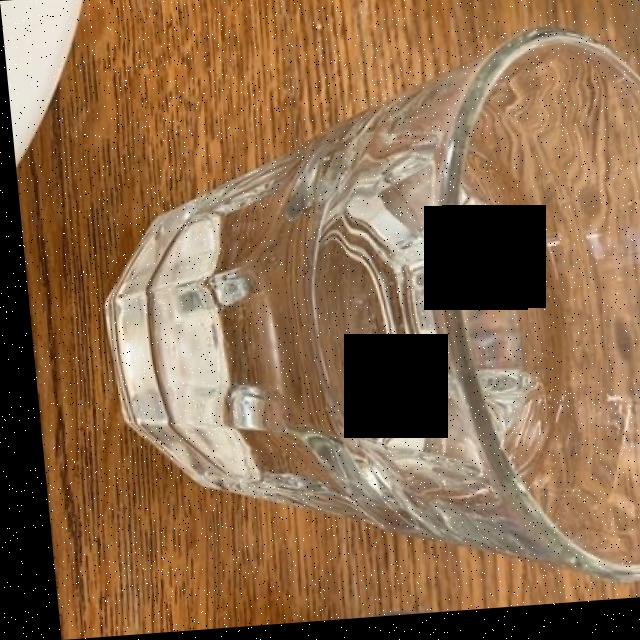water: (119, 127, 543, 523)
